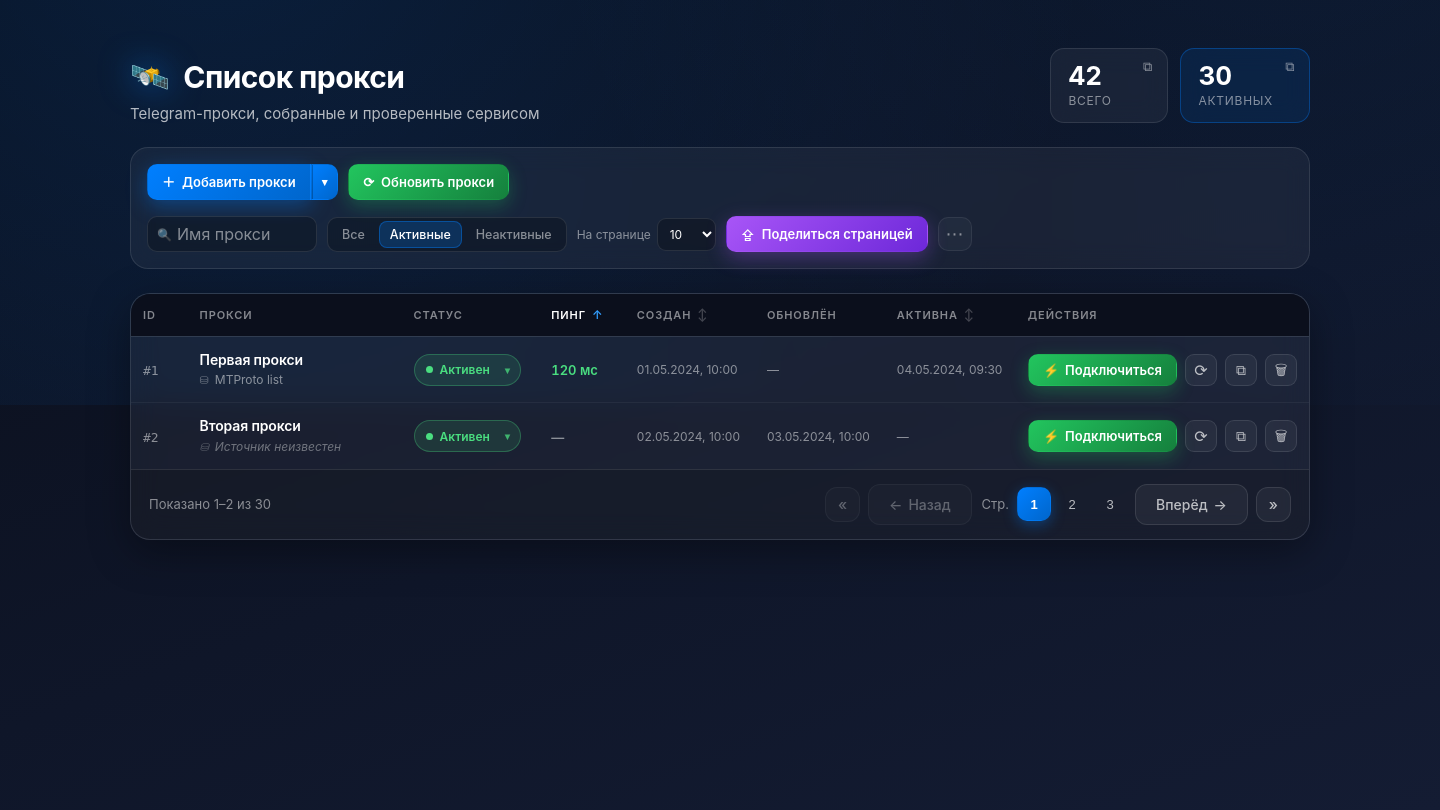
Scenario: добавление прокси › прочие ошибки показываются как ошибка
Expected: the text "Первая прокси" is shown, [200,351,303,368]
Step 1. Click the button titled "Добавить прокси" → (229, 182), box [147,164,311,200]
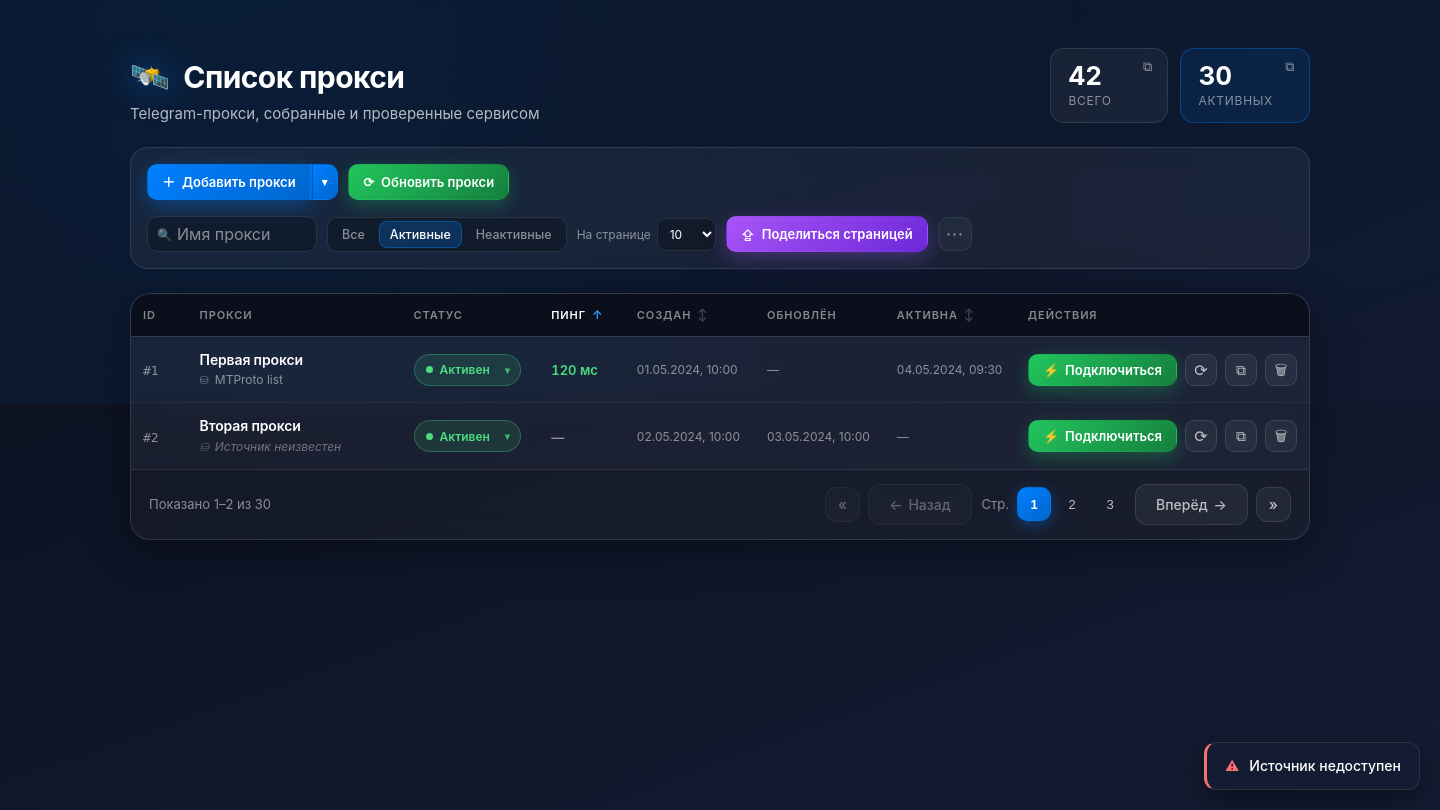
Now the text "Источник недоступен" is shown, box [1249,756,1401,776]
